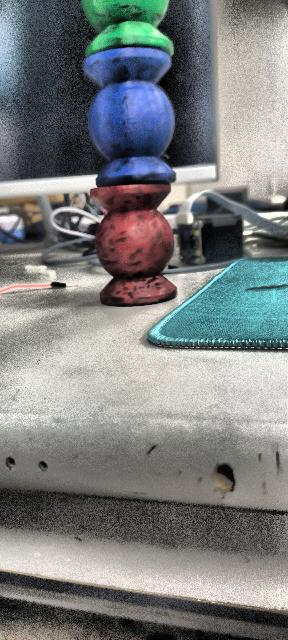blue: (81, 50, 177, 185)
green: (79, 0, 179, 57)
red: (87, 181, 178, 307)
